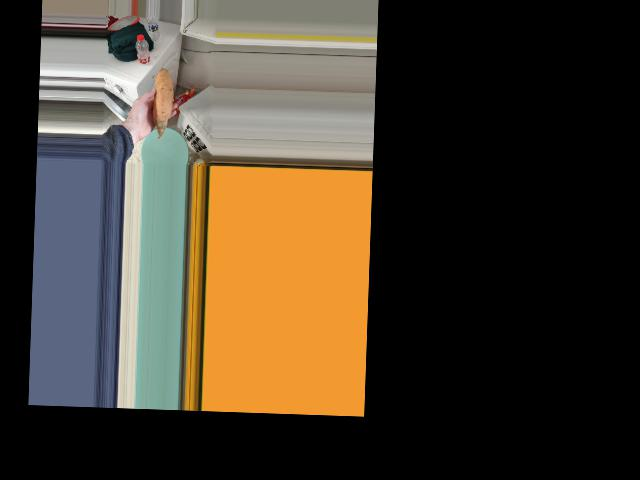sweet_potato: (147, 76, 171, 124)
